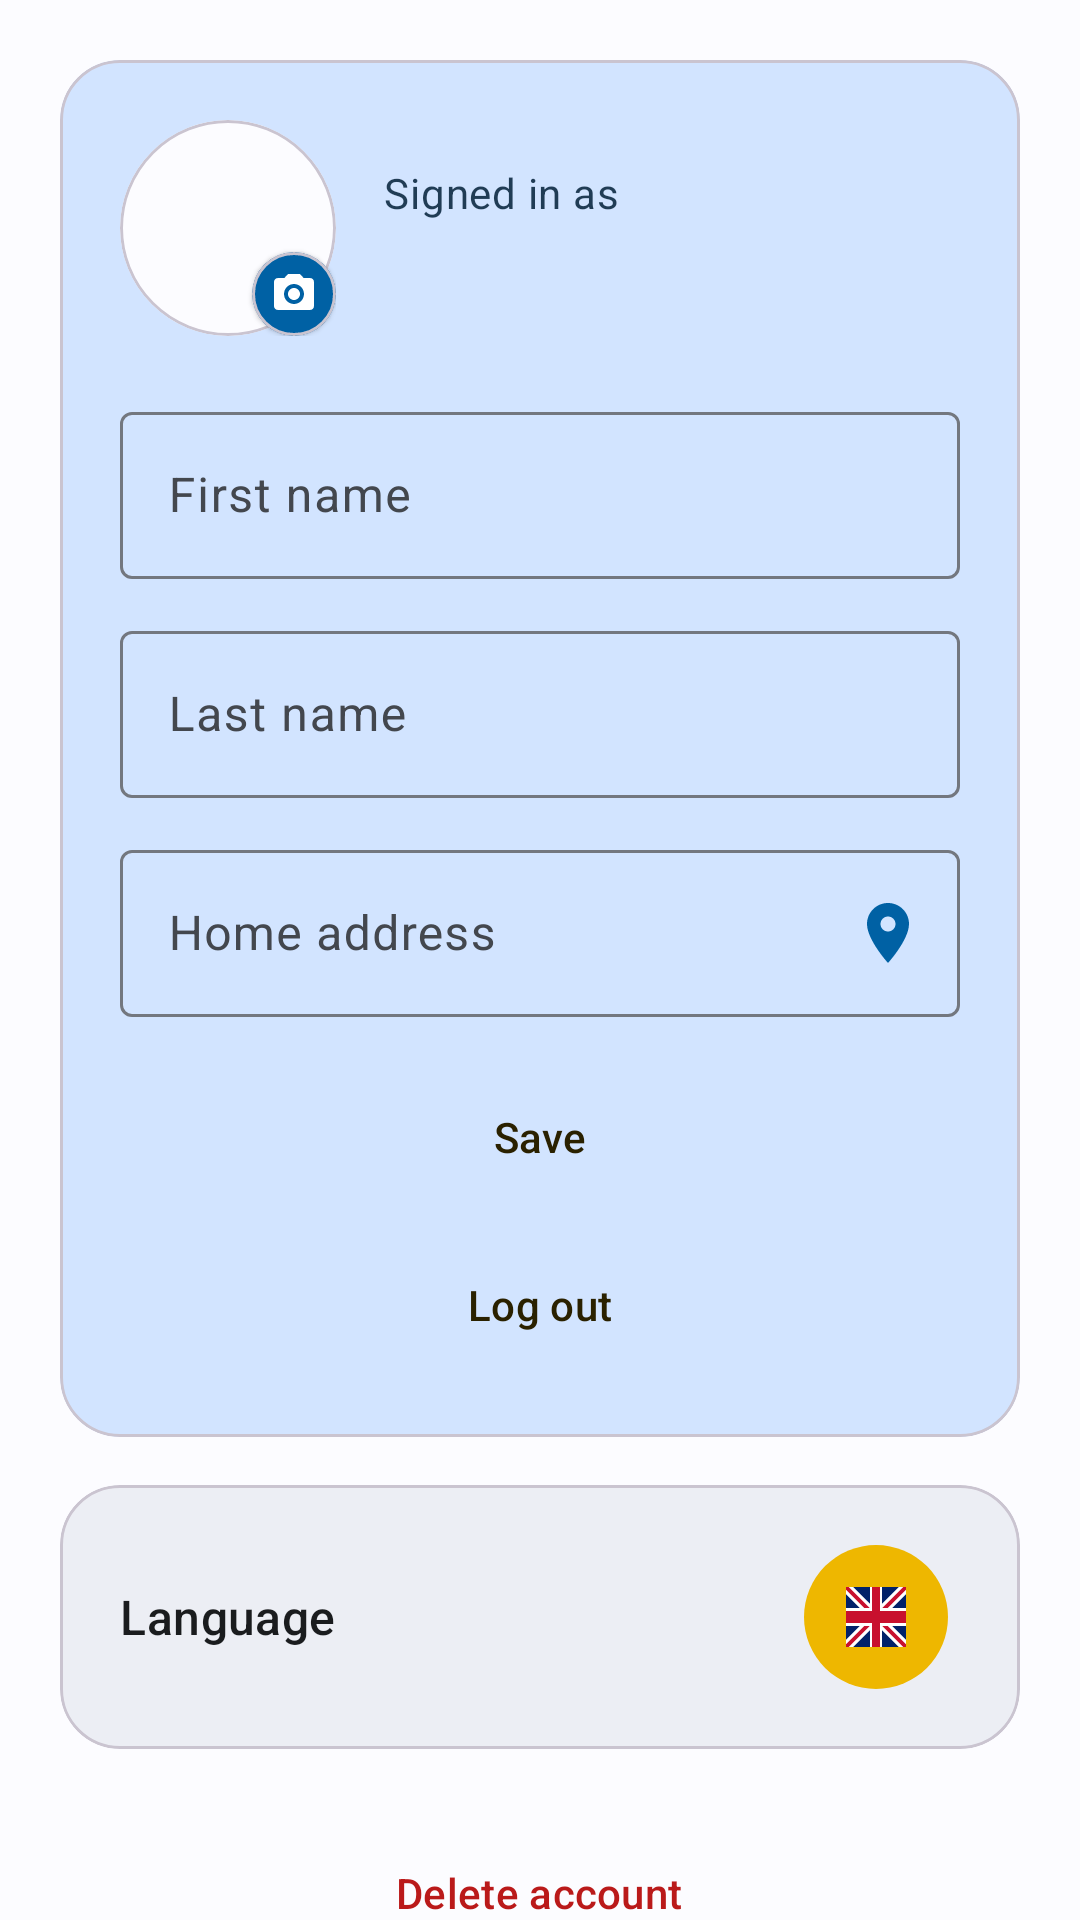

Icons on this 1080 x 1920 Android screen, each with its box as (x1, y1, x2, y2):
Change profile photo: (274, 274, 314, 310)
